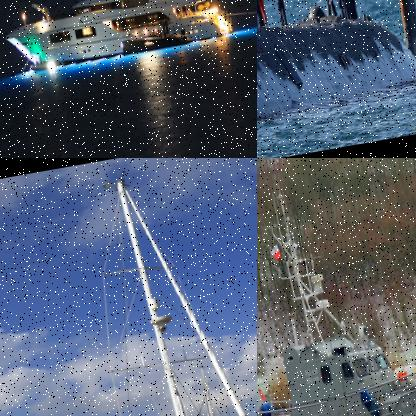Patrol Boat: (257, 158, 415, 415)
Sails Boat: (18, 158, 256, 415)
Submarine: (257, 0, 415, 153)
Yacht: (0, 0, 236, 76)
